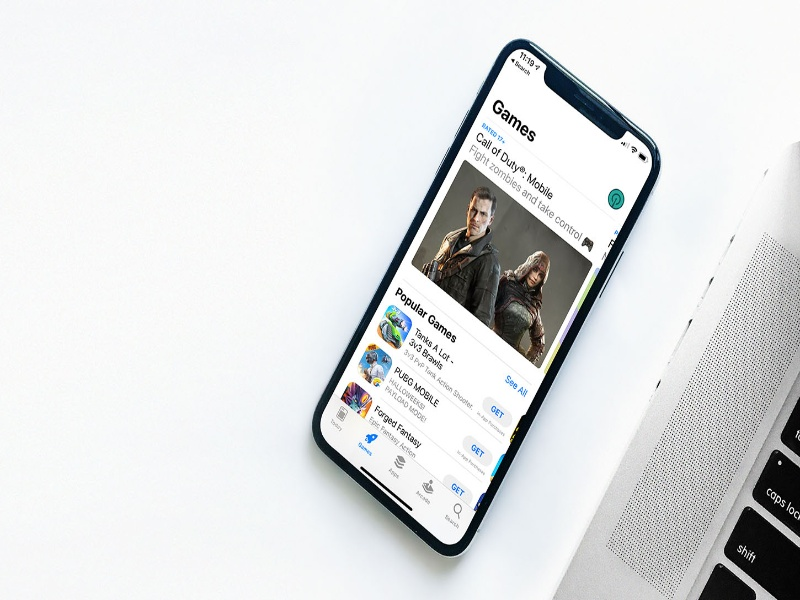mobile: (308, 26, 684, 568)
